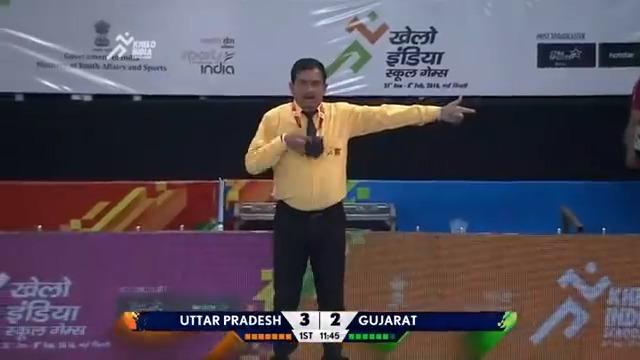referee: (243, 56, 476, 358)
